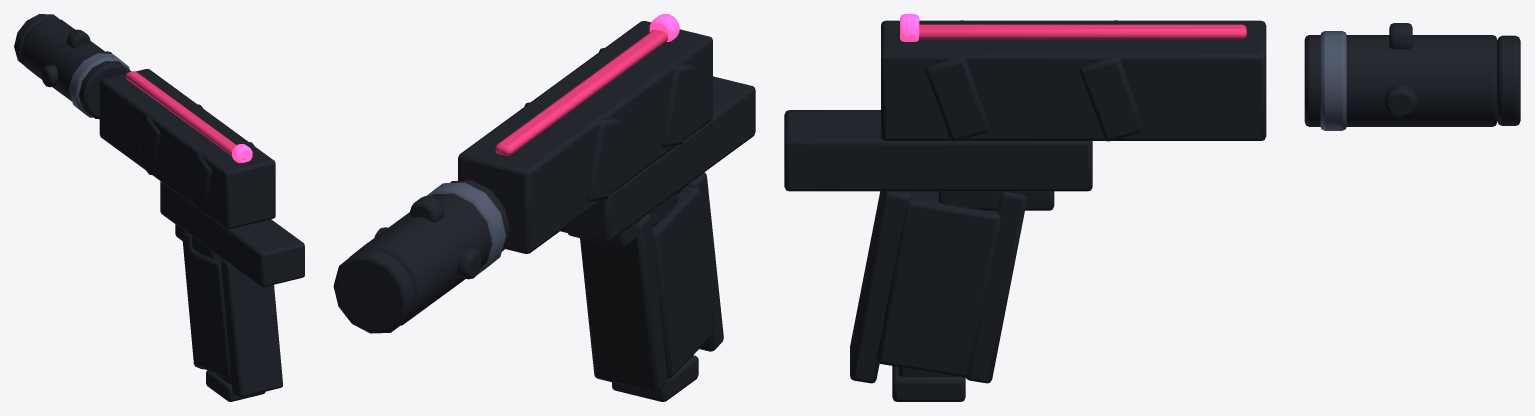
Rendered from wpn_4_viper.glb.
3 views of the same model, side by side, from view 1: azimuth 30°, elevation 25°; view 2: azimuth 150°, elevation 25°; view 3: azimuth 270°, elevation 25° (orthographic). The views are drawn at different scales.
Visible parts, largest first — view 1: wpn_4_viper; view 2: wpn_4_viper; view 3: wpn_4_viper.
Boxes of the visible parts, x1,y1,x2,y2 form: wpn_4_viper: [14, 14, 304, 401]; wpn_4_viper: [333, 14, 755, 401]; wpn_4_viper: [784, 14, 1520, 401].
Bounding box in the file's own units: 0.06 × 0.2146 × 0.382.
